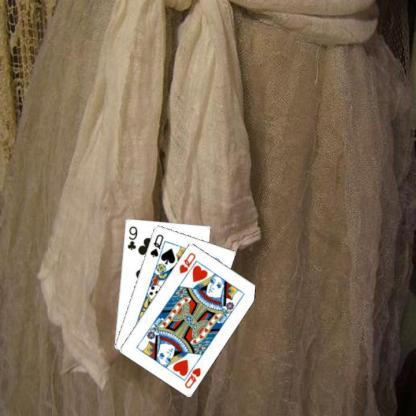9C: (125, 223, 138, 251)
QH: (180, 359, 202, 389), (177, 250, 197, 274)
QS: (147, 231, 165, 258)
